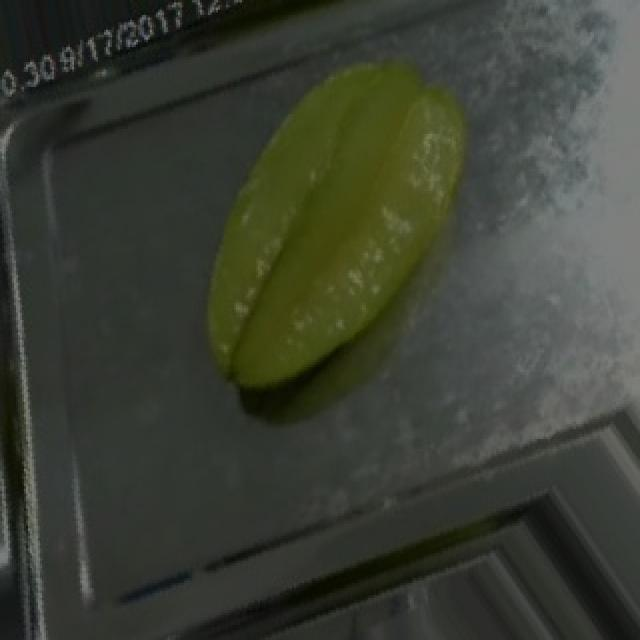fruit: (156, 0, 544, 432)
